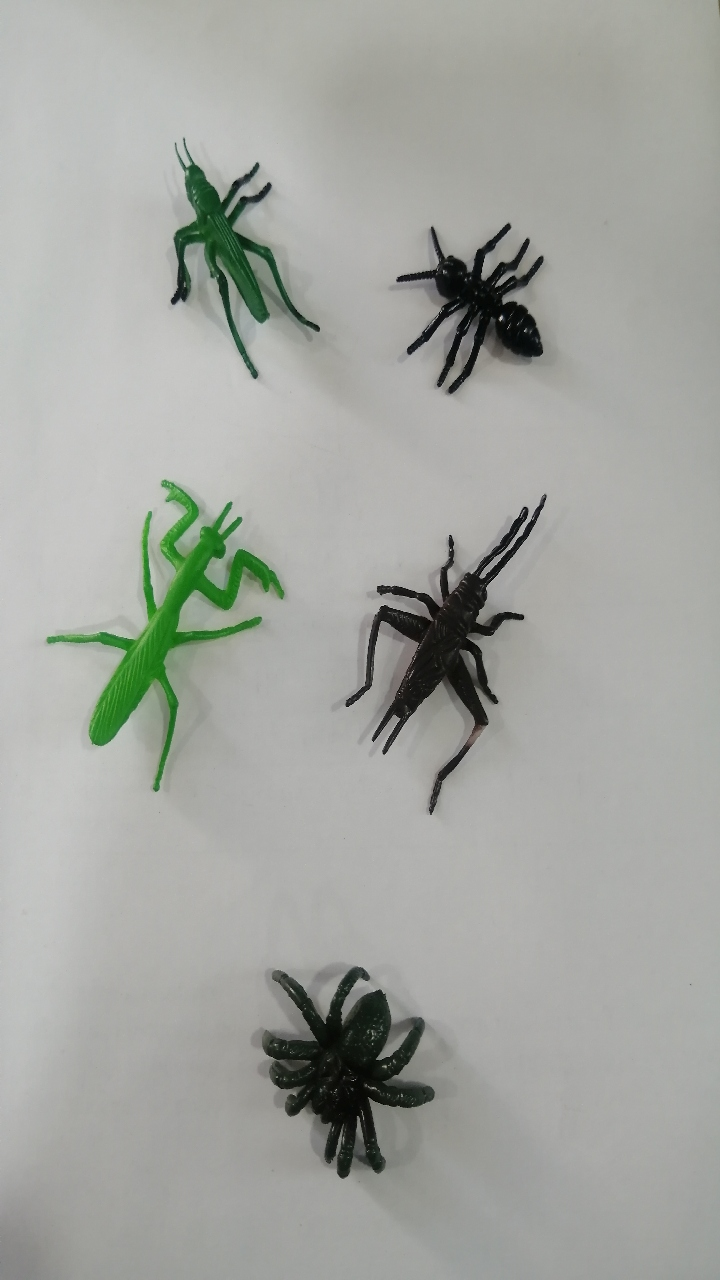intruso: (14, 445, 294, 815), (321, 462, 561, 837), (220, 920, 454, 1206), (128, 100, 346, 395), (360, 174, 574, 422)
